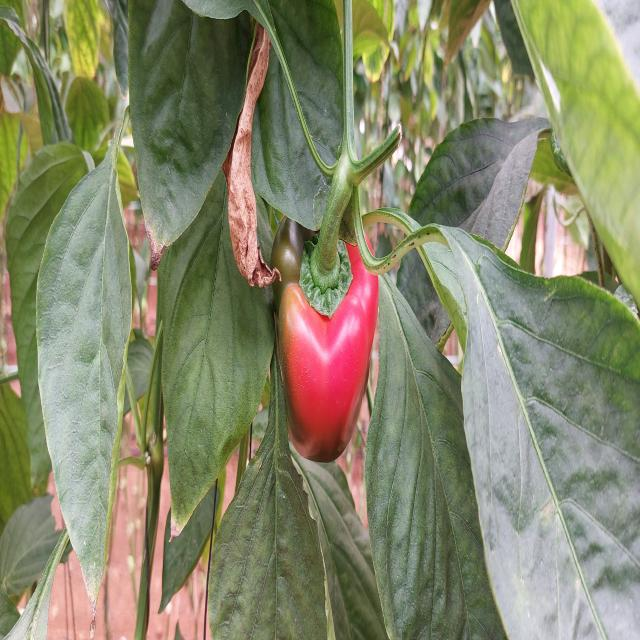BrownishRed--Can-be-Harvested: (267, 206, 388, 484)
